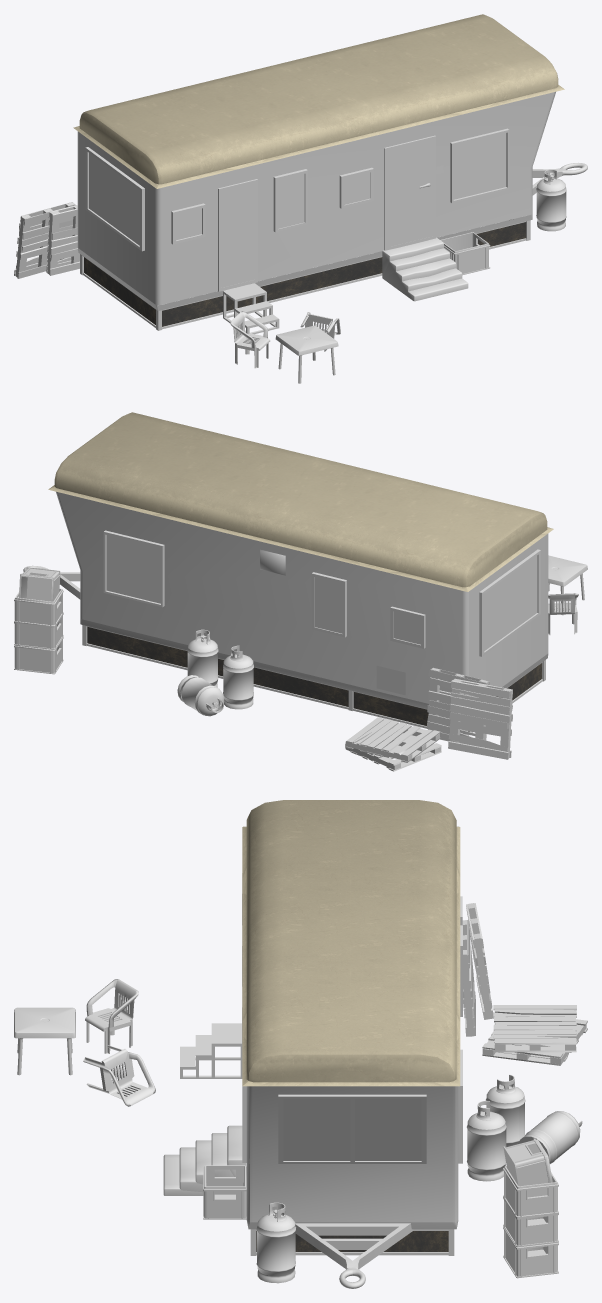
File: trailer-and-props-wip.fbx
3 views of the same model, one above another, from view 1: azimuth 30°, elevation 25°; view 2: azimuth 150°, elevation 25°; view 3: azimuth 270°, elevation 25° (orthographic). The views are drawn at different scales.
Visible parts, largest first — view 1: polySurface168_roof_0, polySurface2_trailer_base_mat_0, polySurface242_grid_0, polySurface56_doors_staircases_0, polySurface263_windows_docr_0, polySurface448_windows_docr_0, polySurface54_doors_staircases_0, polySurface447_doors_staircases_0, polySurface75_doors_staircases_0, pallete3_pallete_mat_0, polySurface74_windows_docr_0, pallete2_pallete_mat_0 (+10 smaller); view 2: polySurface2_trailer_base_mat_0, polySurface168_roof_0, polySurface242_grid_0, pallete3_pallete_mat_0, polySurface263_windows_docr_0, polySurface445_windows_docr_0, polySurface447_doors_staircases_0, pallete_pallete_mat_0, polySurface139_windows_docr_0, pallete2_pallete_mat_0, bottle2_gas_bottle_mat_0, bottle3_gas_bottle_mat_0 (+11 smaller); view 3: polySurface168_roof_0, polySurface2_trailer_base_mat_0, polySurface264_windows_docr_0, polySurface444_windows_docr_0, polySurface447_doors_staircases_0, pallete_pallete_mat_0, polySurface54_doors_staircases_0, bottle_gas_bottle_mat_0, bottle1_gas_bottle_mat_0, table_table_chair_mat_0, box_box_mat_0, chair1_table_chair_mat_0 (+13 smaller).
Part boxes in pixels (box(x1,y1,x2,y2)): polySurface168_roof_0: box(73, 14, 564, 188); polySurface2_trailer_base_mat_0: box(77, 91, 555, 305); polySurface242_grid_0: box(84, 222, 525, 326); polySurface56_doors_staircases_0: box(388, 140, 433, 247); polySurface263_windows_docr_0: box(85, 147, 144, 251); polySurface448_windows_docr_0: box(436, 128, 509, 202); polySurface54_doors_staircases_0: box(382, 237, 468, 301); polySurface447_doors_staircases_0: box(77, 163, 587, 329); polySurface75_doors_staircases_0: box(221, 183, 255, 287); pallete3_pallete_mat_0: box(14, 202, 76, 278); polySurface74_windows_docr_0: box(273, 169, 307, 232); pallete2_pallete_mat_0: box(46, 205, 79, 275); polySurface2_trailer_base_mat_0: box(56, 491, 548, 703); polySurface168_roof_0: box(48, 412, 553, 591); polySurface242_grid_0: box(87, 627, 541, 731); pallete3_pallete_mat_0: box(448, 678, 512, 759); polySurface263_windows_docr_0: box(479, 549, 540, 656); polySurface445_windows_docr_0: box(103, 530, 164, 607); polySurface447_doors_staircases_0: box(23, 565, 548, 735); pallete_pallete_mat_0: box(346, 717, 440, 762); polySurface139_windows_docr_0: box(311, 572, 346, 637); pallete2_pallete_mat_0: box(427, 667, 489, 741); bottle2_gas_bottle_mat_0: box(223, 645, 253, 709); bottle3_gas_bottle_mat_0: box(177, 675, 224, 716); polySurface168_roof_0: box(242, 800, 460, 1086); polySurface2_trailer_base_mat_0: box(246, 1086, 458, 1222); polySurface264_windows_docr_0: box(278, 1094, 352, 1163); polySurface444_windows_docr_0: box(352, 1094, 426, 1163); polySurface447_doors_staircases_0: box(246, 1220, 458, 1288); pallete_pallete_mat_0: box(493, 1005, 576, 1052); polySurface54_doors_staircases_0: box(163, 1125, 246, 1195); bottle_gas_bottle_mat_0: box(256, 1202, 296, 1283); bottle1_gas_bottle_mat_0: box(466, 1100, 506, 1181); table_table_chair_mat_0: box(14, 1007, 75, 1075); box_box_mat_0: box(203, 1165, 246, 1219); chair1_table_chair_mat_0: box(83, 1045, 155, 1106).
Bounding box in the file's own units: 1474 × 463 × 1079.
Materials: 9 (2 with a texture image).
